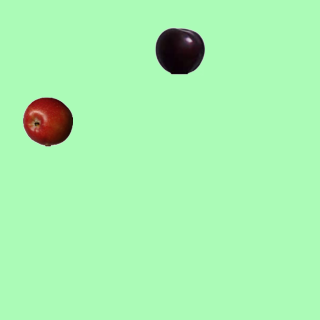Apple Braeburn: (22, 96, 72, 146)
Cherry Wax Black: (154, 25, 204, 75)
